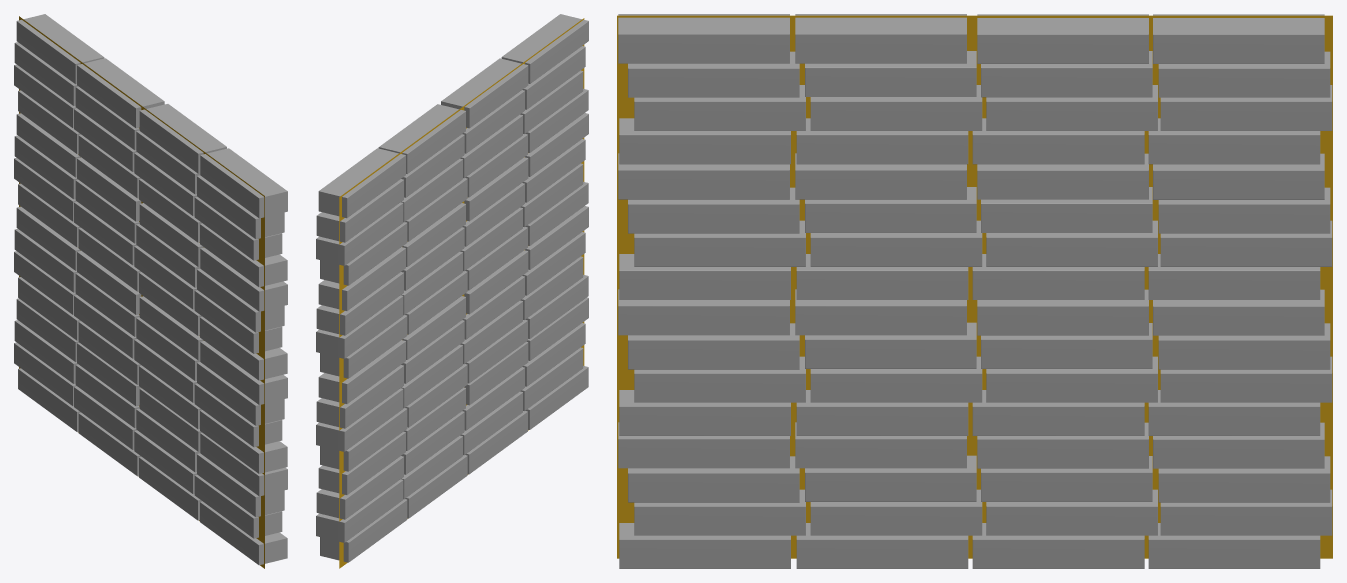
File: Wall assembly.fbx
The picture shows the model from 3 angles, left to right: view 1: azimuth 30°, elevation 25°; view 2: azimuth 150°, elevation 25°; view 3: azimuth 270°, elevation 25°; orthographic projection. The views are drawn at different scales.
Parts seen in each view (by area): view 1: pCube65, pPlane1; view 2: pCube65, pPlane1; view 3: pCube65, pPlane1.
Boxes of the visible parts, left/top/right/bottom form: pCube65: left=14, top=14, right=287, bottom=565; pPlane1: left=19, top=16, right=264, bottom=568; pCube65: left=316, top=14, right=588, bottom=562; pPlane1: left=339, top=18, right=584, bottom=568; pCube65: left=618, top=14, right=1332, bottom=568; pPlane1: left=617, top=15, right=1332, bottom=558.
Size of the model in its own units: 16.29 by 201 by 240.
